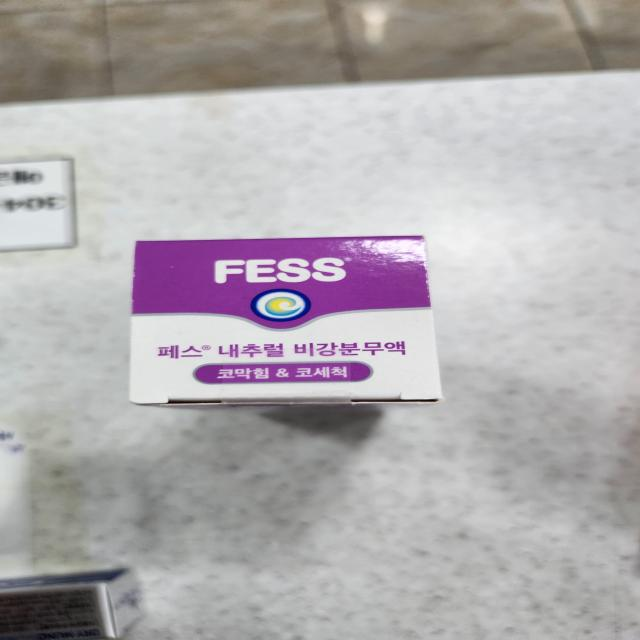box: (132, 237, 441, 404)
